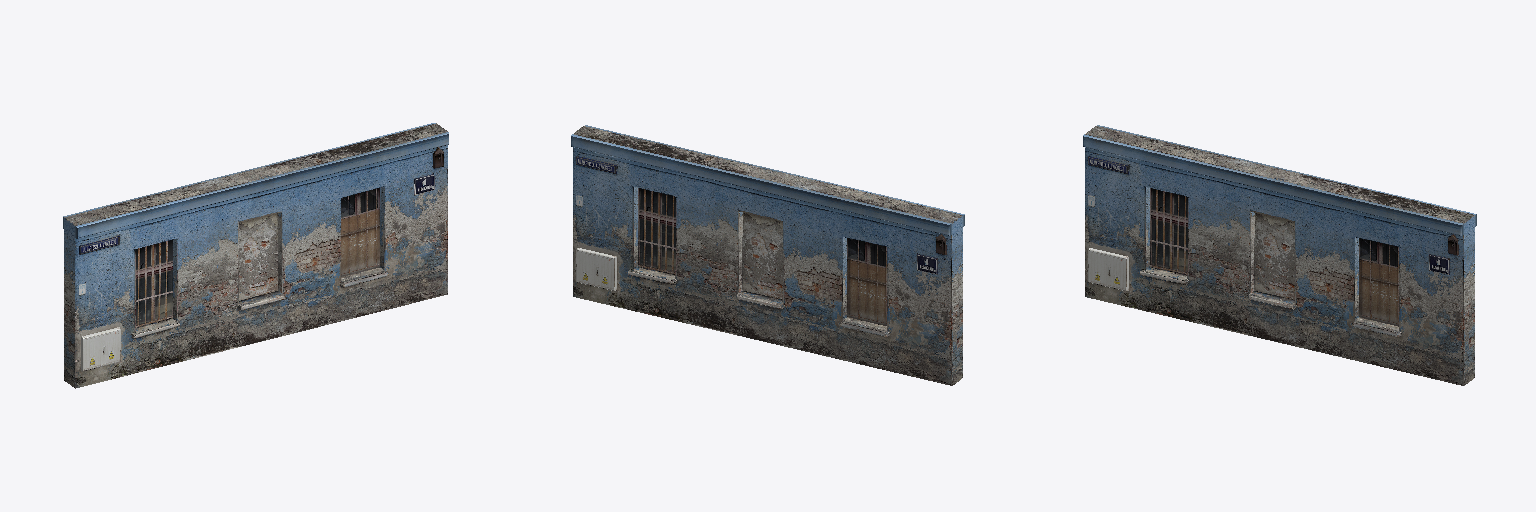
The picture shows the model from 3 angles: view 1: azimuth 30°, elevation 25°; view 2: azimuth 150°, elevation 25°; view 3: azimuth 330°, elevation 25°; orthographic projection.
Parts seen in each view (by area): view 1: Old_Building_#4.003, Old_Building_#4.002; view 2: Old_Building_#4.002, Old_Building_#4.003; view 3: Old_Building_#4.003, Old_Building_#4.002.
Boxes of the visible parts, <box> form: Old_Building_#4.003: <box>64,132,448,388</box>; Old_Building_#4.002: <box>63,123,447,228</box>; Old_Building_#4.002: <box>571,126,962,385</box>; Old_Building_#4.003: <box>585,125,964,385</box>; Old_Building_#4.003: <box>1083,128,1464,385</box>; Old_Building_#4.002: <box>1086,125,1476,385</box>.
Size of the model in its own units: 36.4 by 15.02 by 3.15.
Materials: 2 (1 with a texture image).